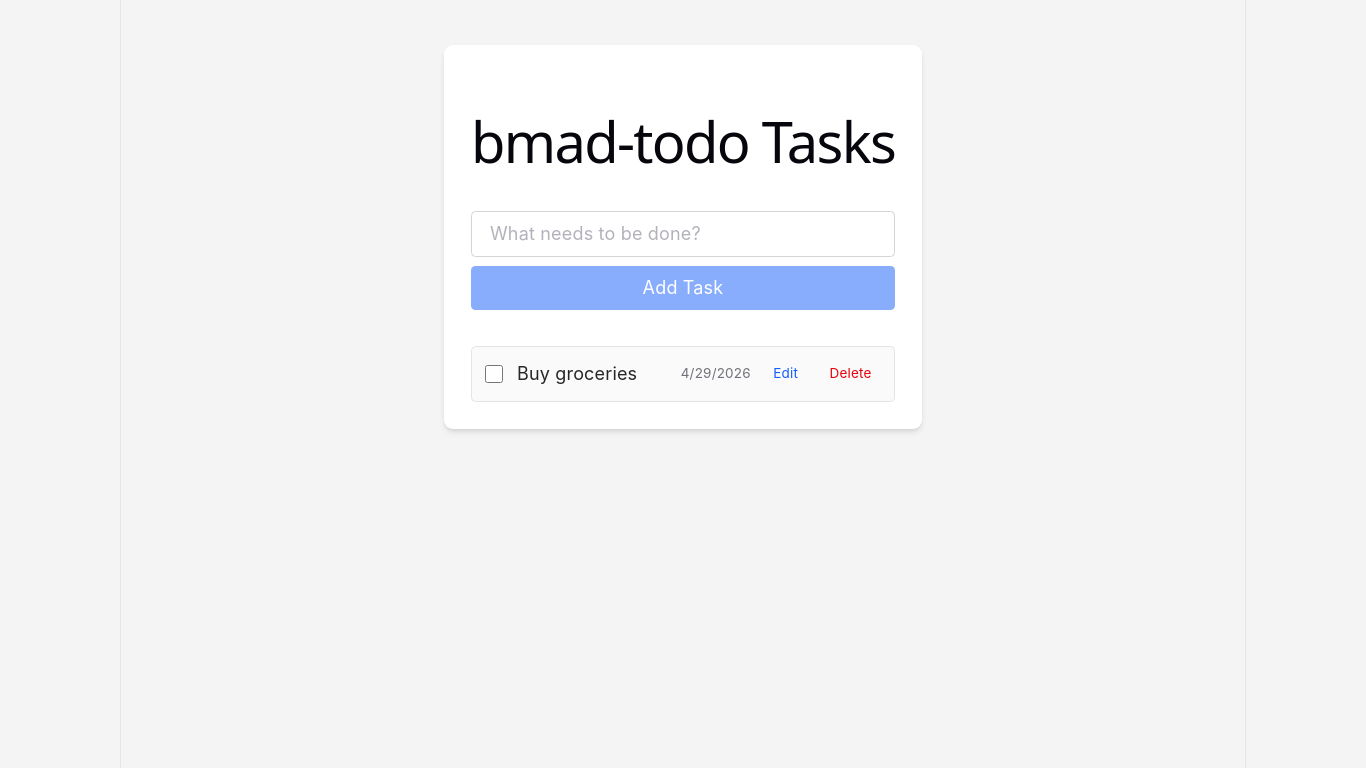
Test: TaskApp › create task › shows toast and restores draft title when POST /tasks fails
Expected: the text "Buy groceries" is shown, x1=517 y1=361 x2=637 y2=387
Type "New task draft" into the field with test id "task-input" at (683, 234), box x1=471 y1=211 x2=895 y2=257
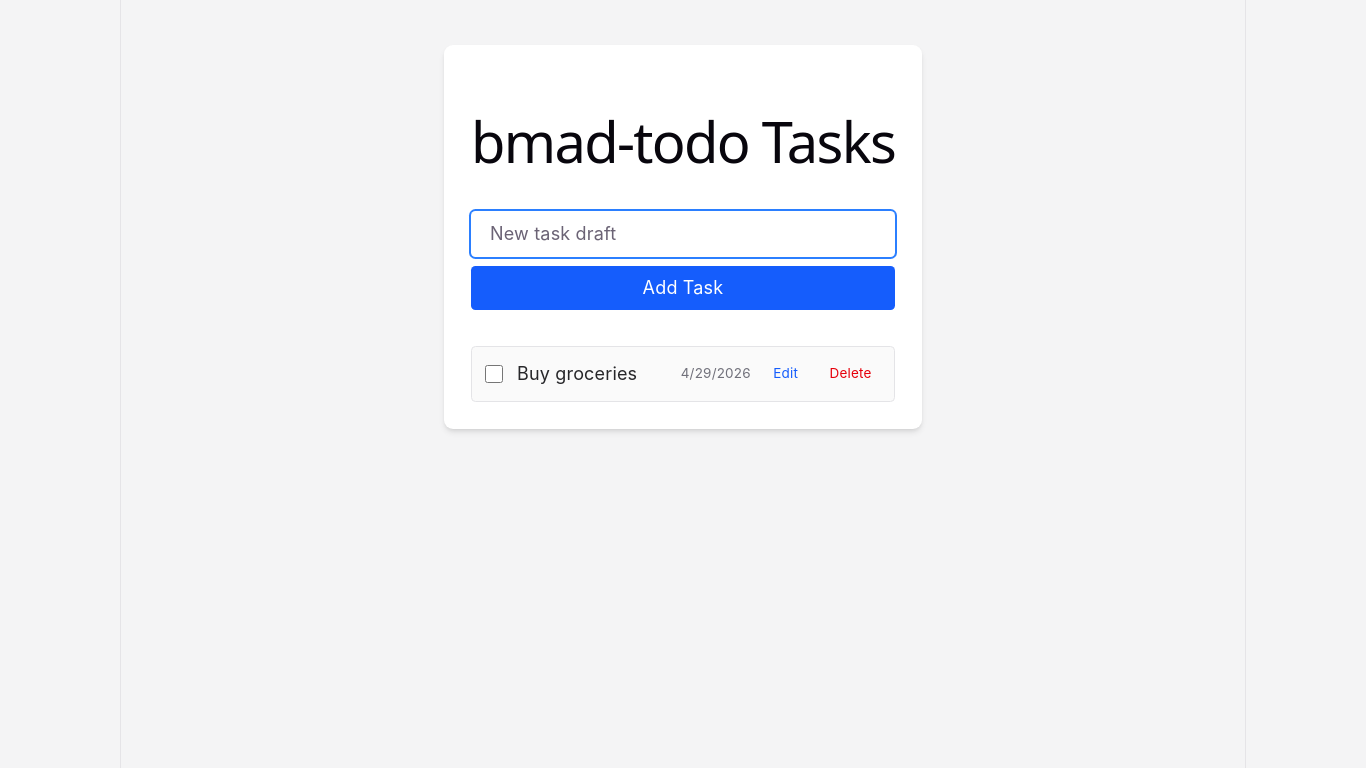
Click the button "Add Task" at (683, 288), box x1=471 y1=266 x2=895 y2=310
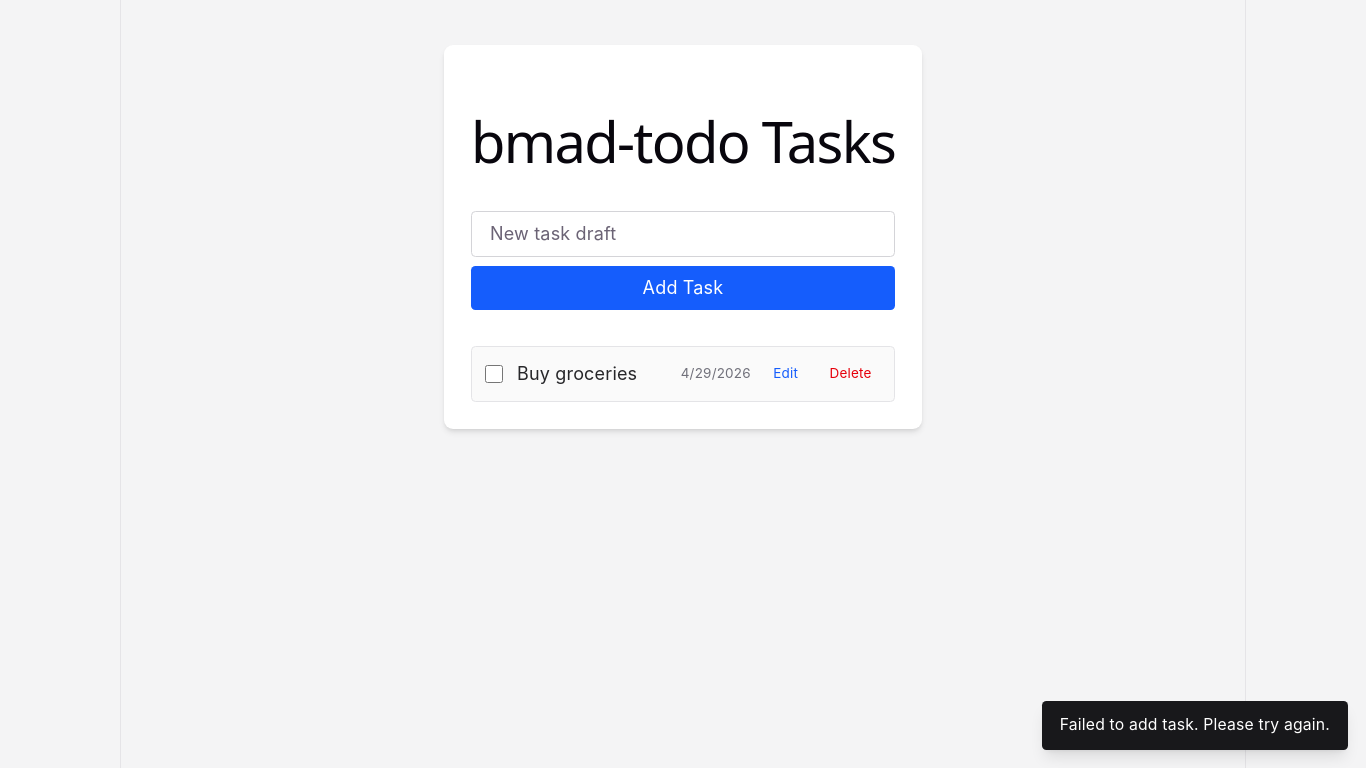
Now the message "Failed to add task. Please try again." is shown, box x1=1042 y1=700 x2=1348 y2=750
Now the message shows "Failed to add task", box x1=1060 y1=715 x2=1330 y2=734
